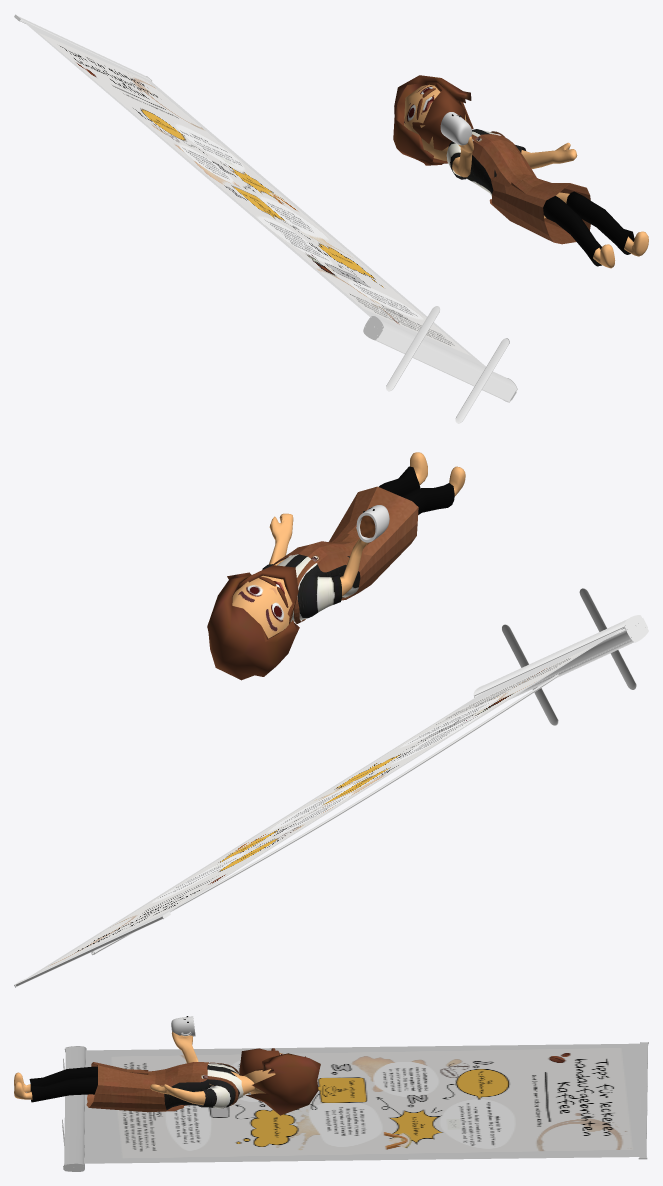
The model's file is GLTF_4_Coffeeman.glb.
3 renders of one model, top to bottom at view 1: azimuth 30°, elevation 25°; view 2: azimuth 150°, elevation 25°; view 3: azimuth 270°, elevation 25°, orthographic. The views are drawn at different scales.
Parts seen in each view (by area): view 1: Plane, Cube.002_4, Cube_2; view 2: Cube.002_4, Plane; view 3: Plane, Cube.002_4, Cube_2.
Part boxes in pixels (x1,y1,x2,y2): Plane: [14, 14, 517, 423]; Cube.002_4: [393, 75, 648, 268]; Cube_2: [440, 112, 471, 145]; Cube.002_4: [207, 452, 465, 680]; Plane: [14, 588, 648, 987]; Plane: [62, 1042, 648, 1171]; Cube.002_4: [14, 1031, 320, 1115]; Cube_2: [171, 1016, 195, 1036].
Bounding box in the file's own units: 0.4148 × 0.3487 × 1.17.
9 materials, 5 textured.
